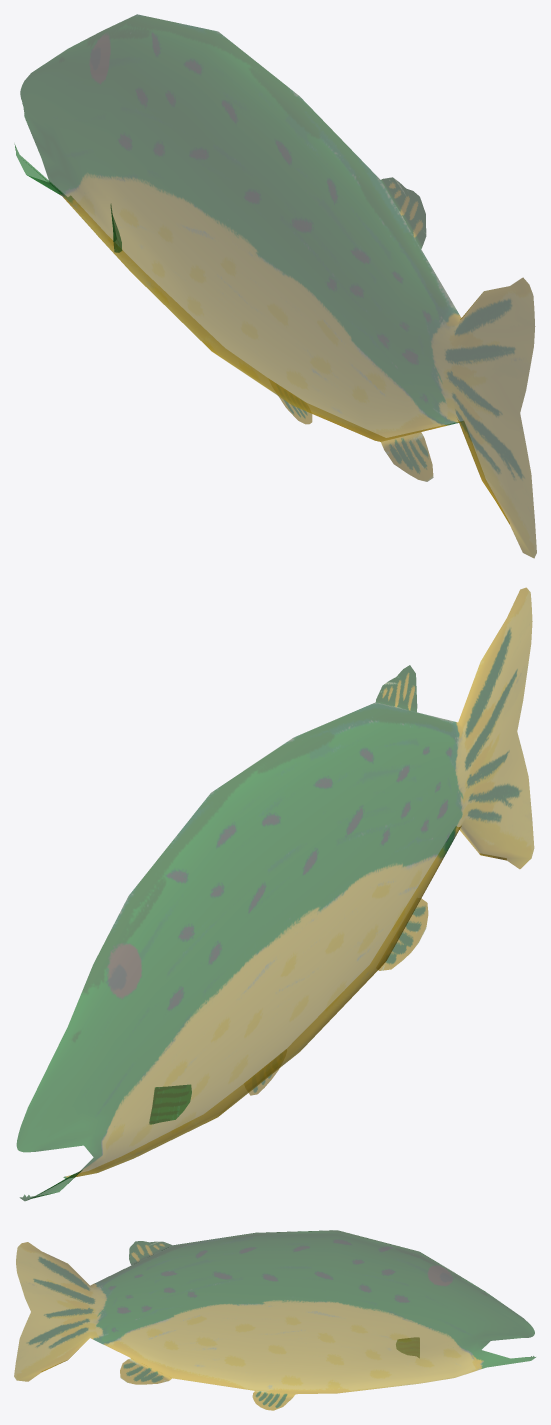
File: Iso Paha kala - toine kylki – suu auki flip V3.fbx
3 views of the same model, one above another, from view 1: azimuth 30°, elevation 25°; view 2: azimuth 150°, elevation 25°; view 3: azimuth 270°, elevation 25° (orthographic). The views are drawn at different scales.
Visible parts, largest first — view 1: IPK; view 2: IPK; view 3: IPK.
Boxes of the visible parts, <box> form: IPK: <box>14,14,536,558</box>; IPK: <box>16,587,534,1200</box>; IPK: <box>14,1230,535,1410</box>.
Size of the model in its own units: 25.76 by 151 by 405.
Materials: 1 (1 with a texture image).
